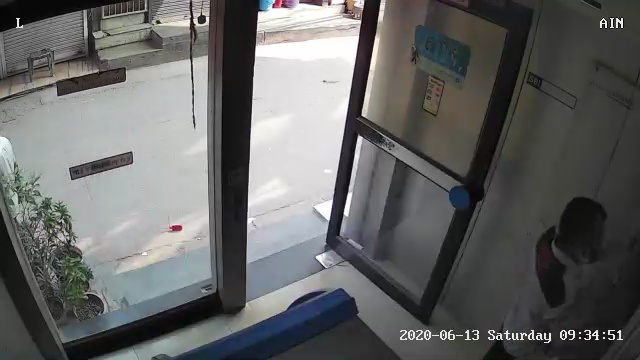open: (289, 5, 539, 329)
